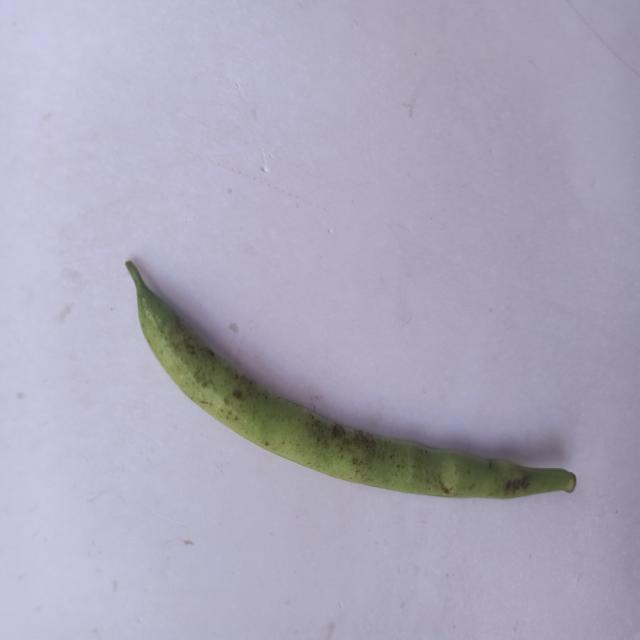Beans: (116, 240, 586, 528)
